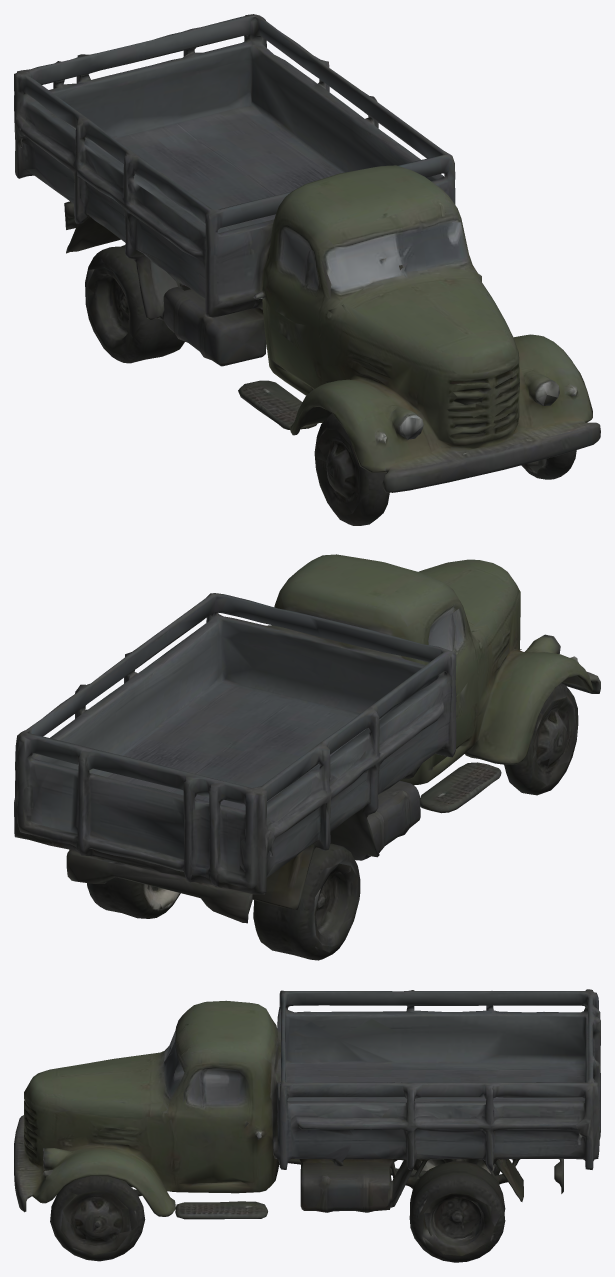
Rendered from xe-tai.glb.
3 renders of one model, top to bottom at view 1: azimuth 30°, elevation 25°; view 2: azimuth 150°, elevation 25°; view 3: azimuth 270°, elevation 25°, orthographic. The views are drawn at different scales.
Parts seen in each view (by area): view 1: xe-tai; view 2: xe-tai; view 3: xe-tai.
Boxes of the visible parts, x1=… form: xe-tai: x1=14, y1=14, x2=600, y2=525; xe-tai: x1=14, y1=554, x2=600, y2=960; xe-tai: x1=14, y1=989, x2=600, y2=1262.
Size of the model in its own units: 2.69 by 2.54 by 6.7.
Materials: 1 (1 with a texture image).
